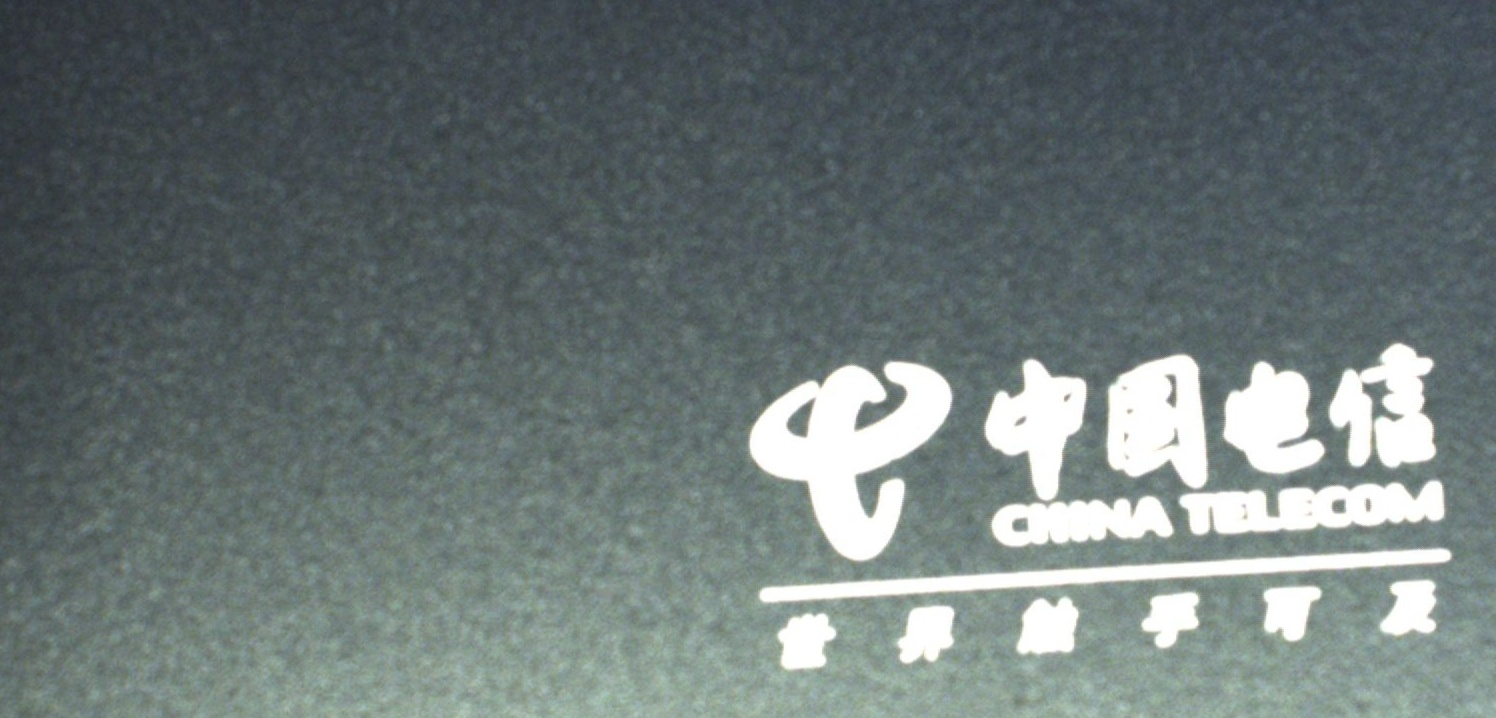AB_ChinaTelecom: (730, 338, 1450, 673)
